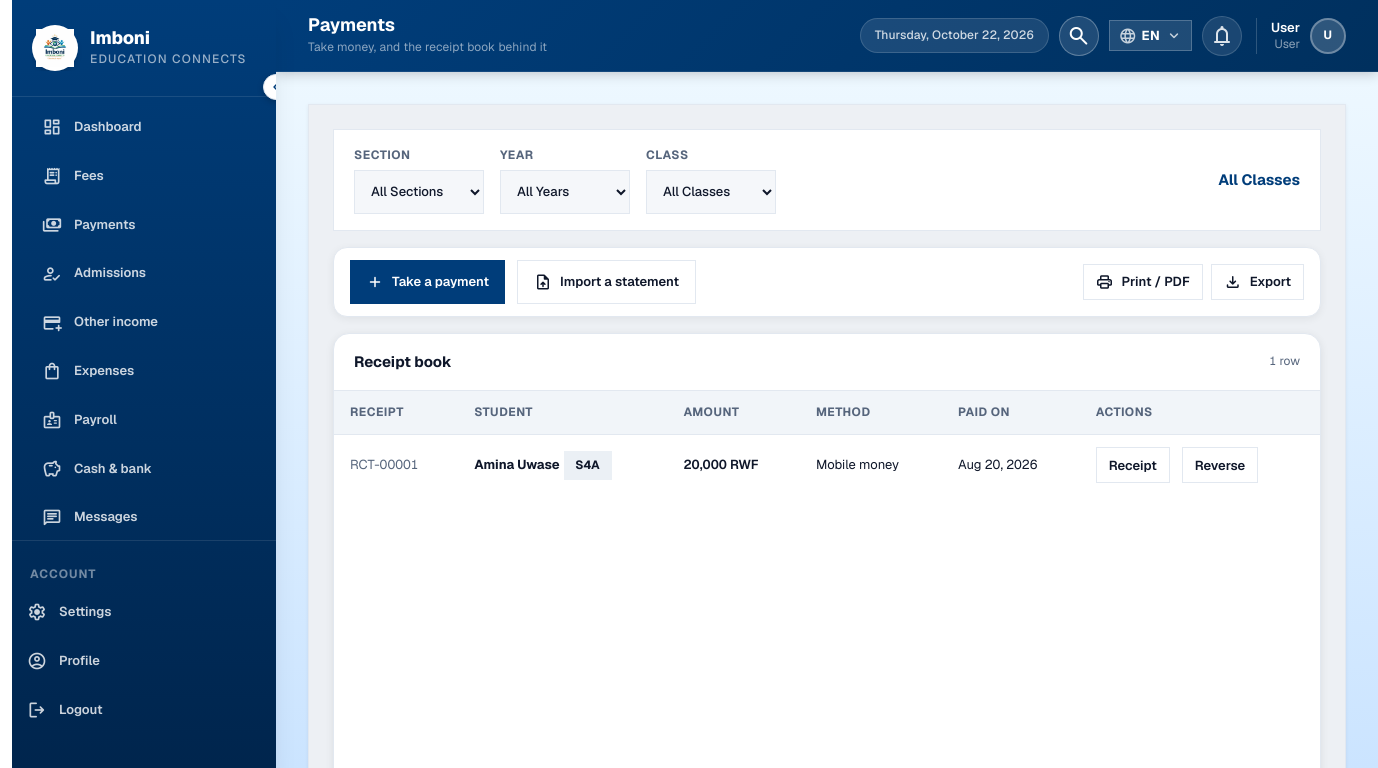
Test case: FinancePayments › reverses a receipt and says the balance is back
Expected: the text "RCT-00001" is shown, x1=350 y1=456 x2=419 y2=473
What coordinates should you click on to do the following:
click the button "Reverse"
I would click on:
 (1220, 465)
Its box is x1=1182 y1=447 x2=1258 y2=483.
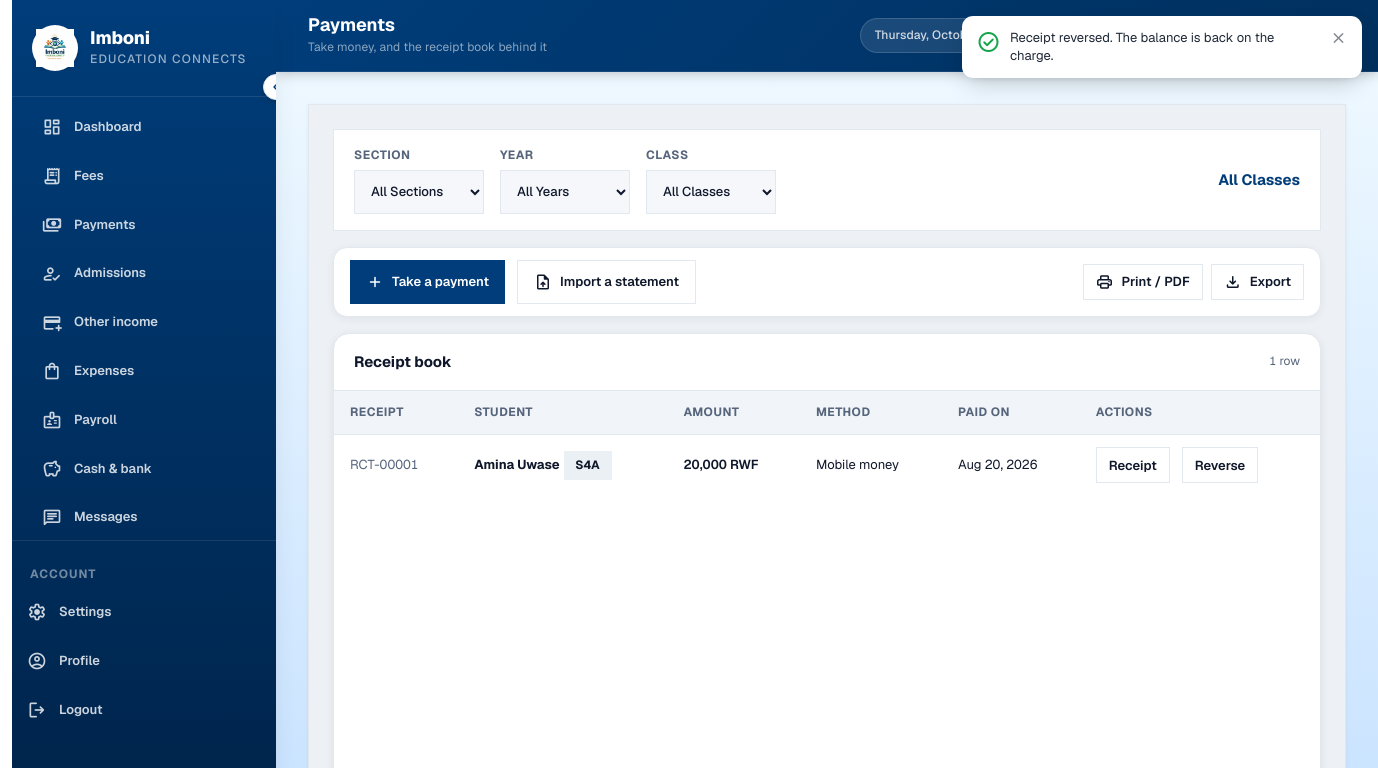
Expected: the text "Receipt reversed. The balance is back on the charge." is shown, x1=1010 y1=29 x2=1320 y2=65
